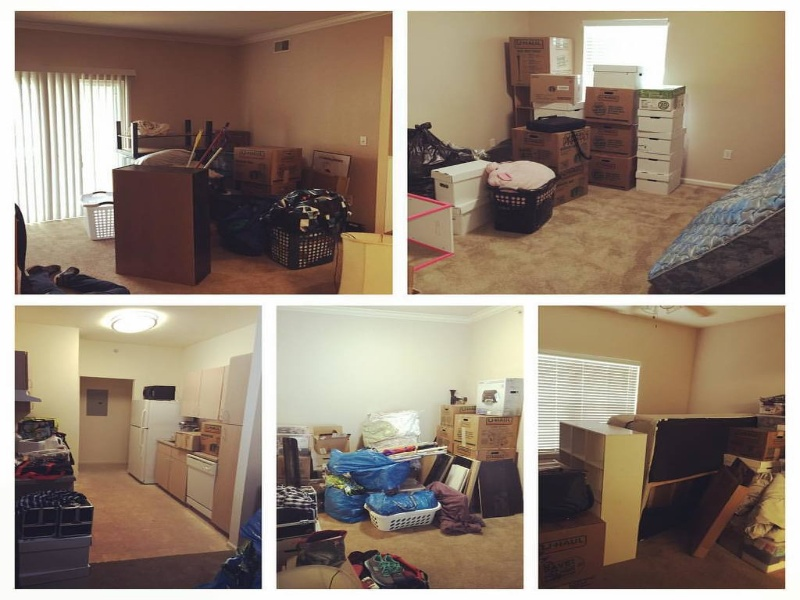refrigerator: (125, 392, 178, 484)
